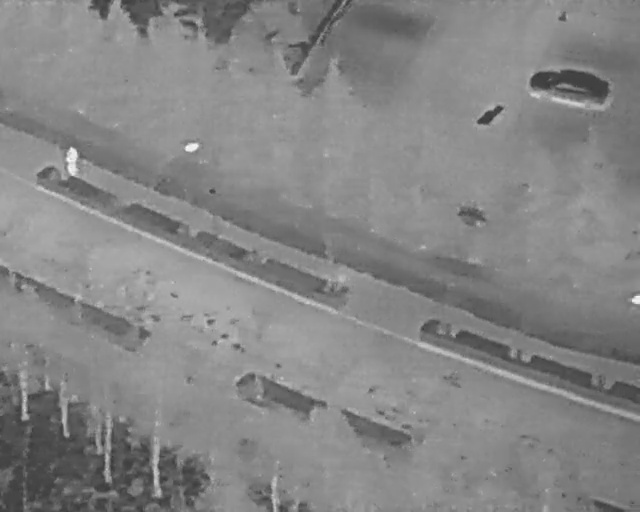Person: (66, 153, 75, 178), (68, 146, 77, 170)
